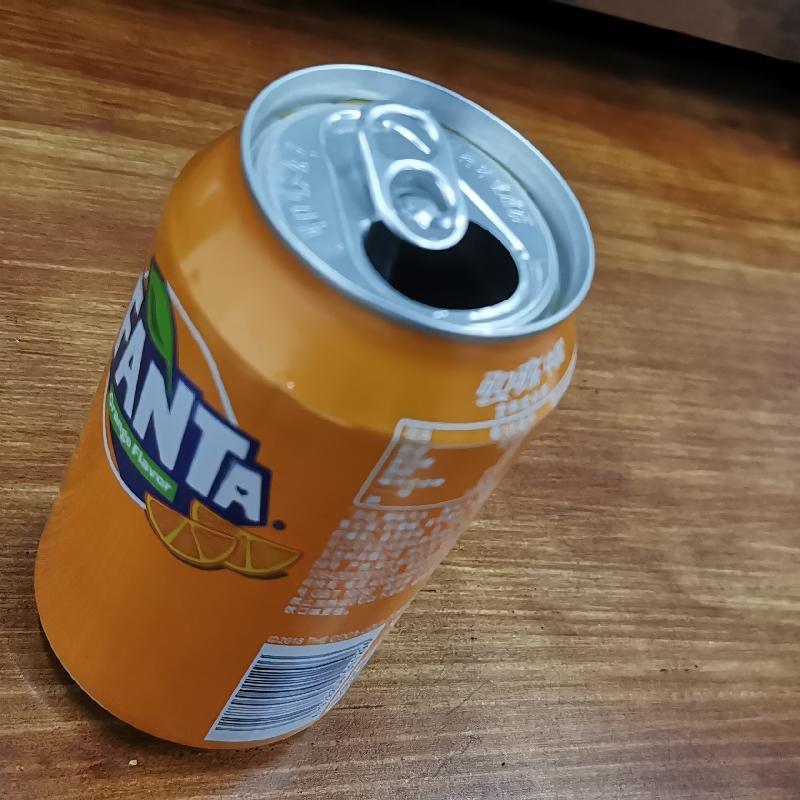cans: (27, 52, 596, 751)
